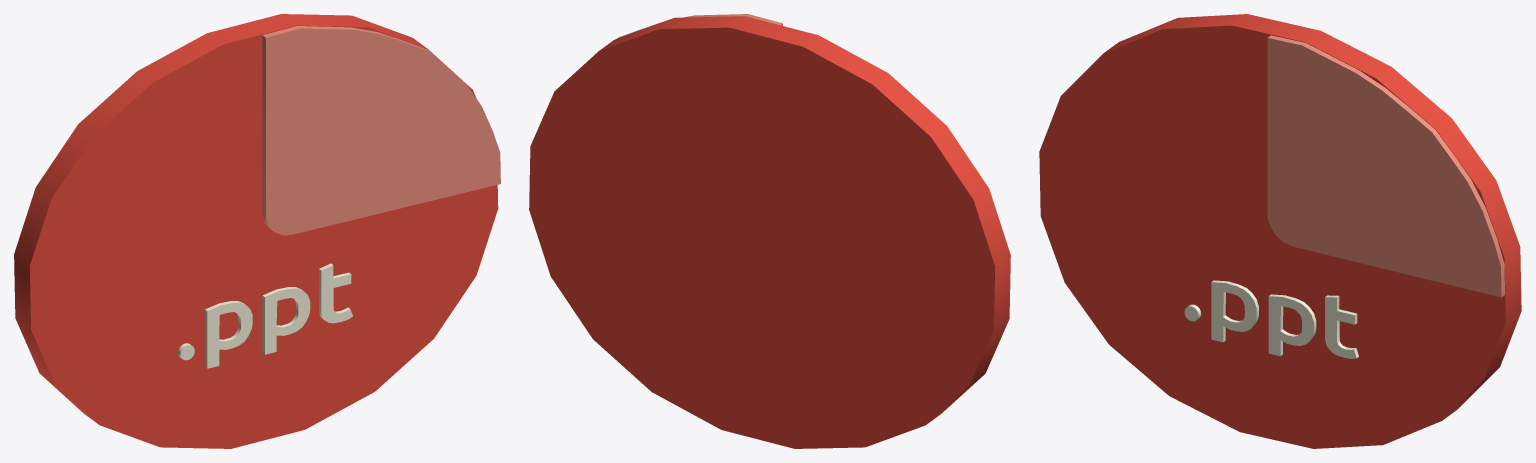
The model's file is ppt_3d.glb.
The picture shows the model from 3 angles, left to right: view 1: azimuth 30°, elevation 25°; view 2: azimuth 150°, elevation 25°; view 3: azimuth 330°, elevation 25°; orthographic projection.
Visible parts, largest first — view 1: Cylinder001; view 2: Cylinder001; view 3: Cylinder001.
Part boxes in pixels (box(x1,y1,x2,y2)): Cylinder001: box(14, 14, 500, 448); Cylinder001: box(529, 14, 1010, 448); Cylinder001: box(1039, 14, 1521, 448).
Size of the model in its own units: 0.1171 by 0.0973 by 0.00836.
1 material, 1 textured.
